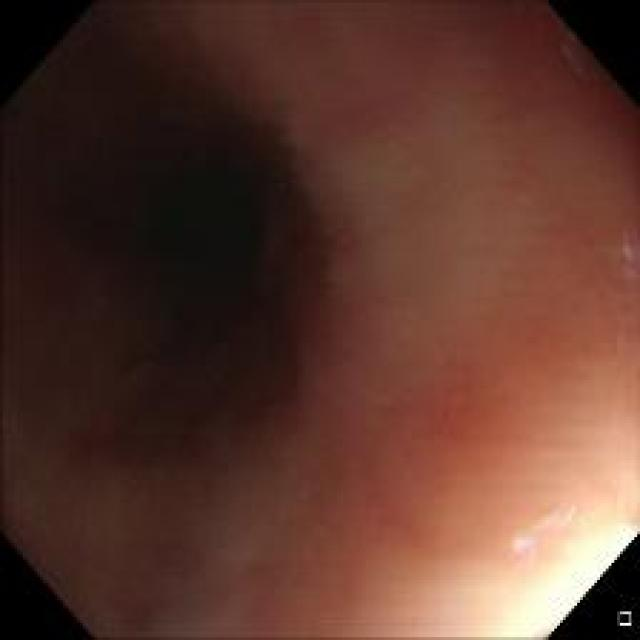color misalignment: (512, 499, 580, 558)
contrast: (32, 81, 325, 439)
saturation: (494, 525, 629, 631)
